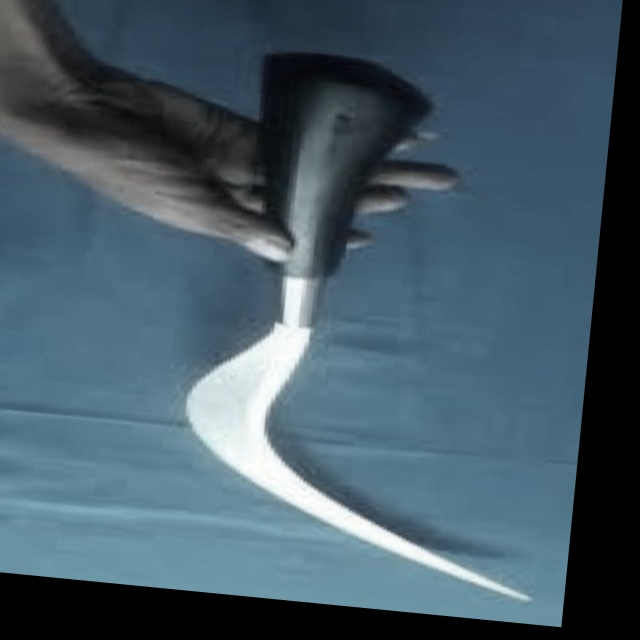Sharp-Object: (125, 25, 616, 607)
